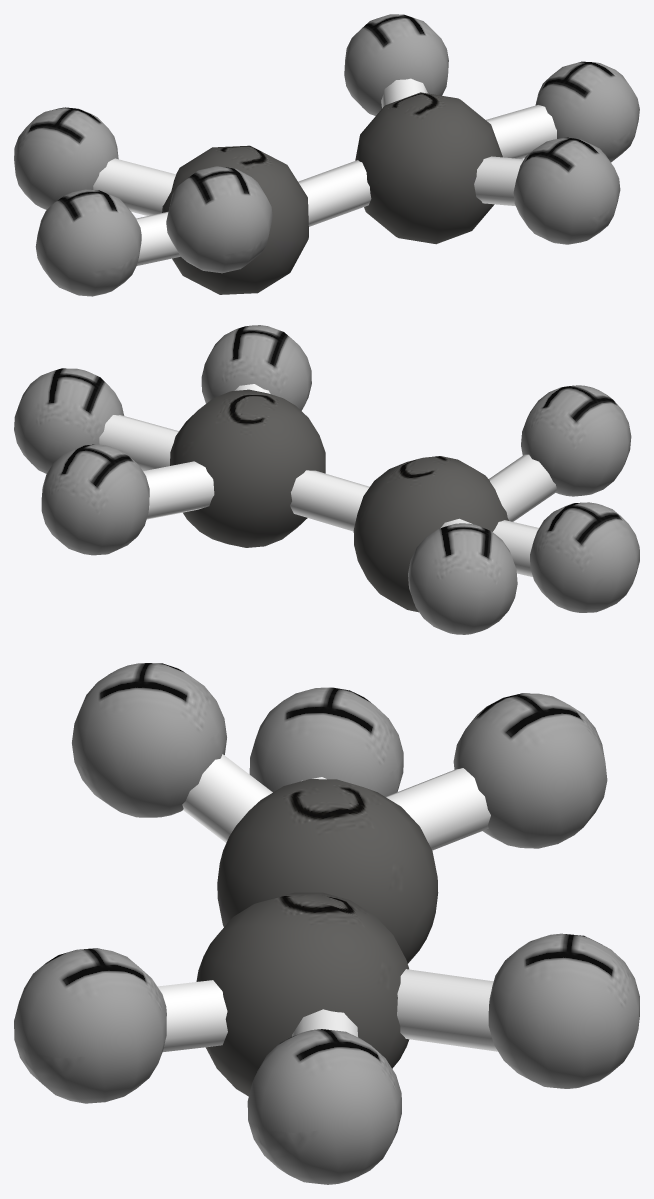
File: Saturated hydrocarbon.fbx
3 renders of one model, top to bottom at view 1: azimuth 30°, elevation 25°; view 2: azimuth 150°, elevation 25°; view 3: azimuth 270°, elevation 25°, orthographic. The views are drawn at different scales.
Visible parts, largest first — view 1: Unsaturated_hydrocarbon; view 2: Unsaturated_hydrocarbon; view 3: Unsaturated_hydrocarbon.
Part boxes in pixels (x1=…): Unsaturated_hydrocarbon: x1=14, y1=14, x2=639, y2=296; Unsaturated_hydrocarbon: x1=14, y1=325, x2=639, y2=634; Unsaturated_hydrocarbon: x1=14, y1=663, x2=639, y2=1184.
Bounding box in the file's own units: 735 × 215 × 465.
2 materials, 1 textured.
